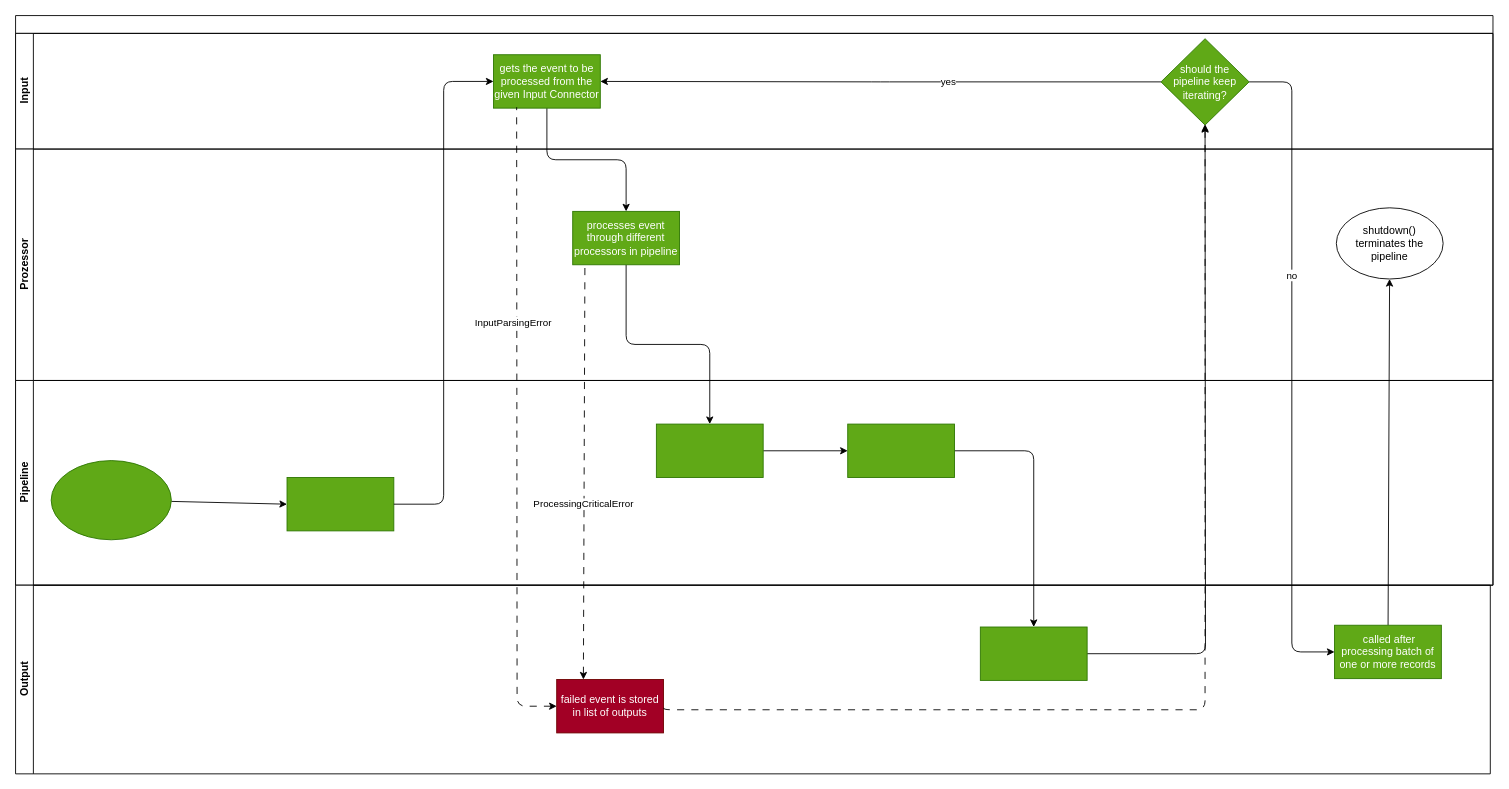
Some shapes in this 1509 by 789 pixel diagram are drawn without their labels. The centre of each missing label's shape, as x and y in pixels:
applies the rules to the given event to process it: (901,450)
get matching generic and specific rules from each processor: (709,450)
PipelineManager created and MultiprocessingPipeline started: (110,500)
Start Pipeline with run() Method: (340,504)
stores the event in the given Output Connector: (1033,653)
